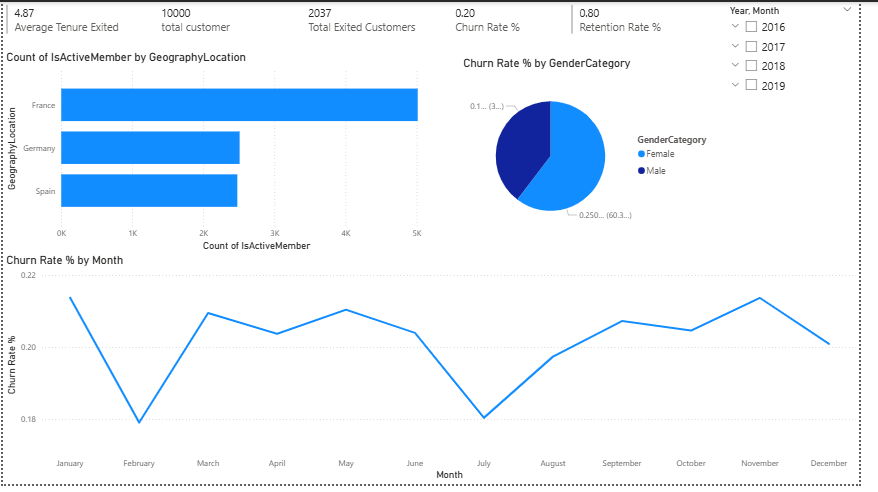

Layout of this report page (visuals, bound fields, positions):
{"tool":"powerbi","page":{"name":"Customer_churn","canvas":[1280,720],"ordinal":0},"visuals":[{"type":"multiRowCard","fields":{"Values":["Bank_Churn.Average Tenure Exited","Bank_Churn.total customer","Bank_Churn.Total Exited Customers","Bank_Churn.Churn Rate %"]},"box":[0,0,900,62.9],"z":0},{"type":"multiRowCard","fields":{"Values":["Bank_Churn.Retention Rate %"]},"box":[844.3,0,165.7,61.4],"z":1000},{"type":"lineChart","fields":{"Y":["Bank_Churn.Churn Rate %"],"Category":["datetable.Date.Variation.Date Hierarchy.Month"]},"box":[0,375.4,1280,344.6],"z":2000},{"type":"barChart","fields":{"Category":["geography.GeographyLocation"],"Y":["CountNonNull(Bank_Churn.IsActiveMember)"]},"box":[0,72.3,683.1,304.6],"z":3000},{"type":"pieChart","fields":{"Y":["Bank_Churn.Churn Rate %"],"Category":["gender.GenderCategory"]},"box":[683.1,80,389.2,280],"z":4000},{"type":"slicer","fields":{"Values":["datetable.Date.Variation.Date Hierarchy.Year","datetable.Date.Variation.Date Hierarchy.Month"]},"box":[1072.3,0,207.7,160],"z":5000}]}

Visuals, with their boxes in screenshot pixels (x1, y1, x2, y2), scaled from the page's 1280x720 canvas onto the 878x492 screenshot:
multiRowCard - Bank_Churn.Average Tenure Exited x Bank_Churn.total customer: (0,0,617,43)
multiRowCard - Bank_Churn.Retention Rate %: (579,0,693,42)
lineChart - Bank_Churn.Churn Rate % x datetable.Date.Variation.Date Hierarchy.Month: (0,257,877,491)
barChart - geography.GeographyLocation x CountNonNull(Bank_Churn.IsActiveMember): (0,49,469,258)
pieChart - Bank_Churn.Churn Rate % x gender.GenderCategory: (469,55,736,246)
slicer - datetable.Date.Variation.Date Hierarchy.Year x datetable.Date.Variation.Date Hierarchy.Month: (736,0,877,109)
